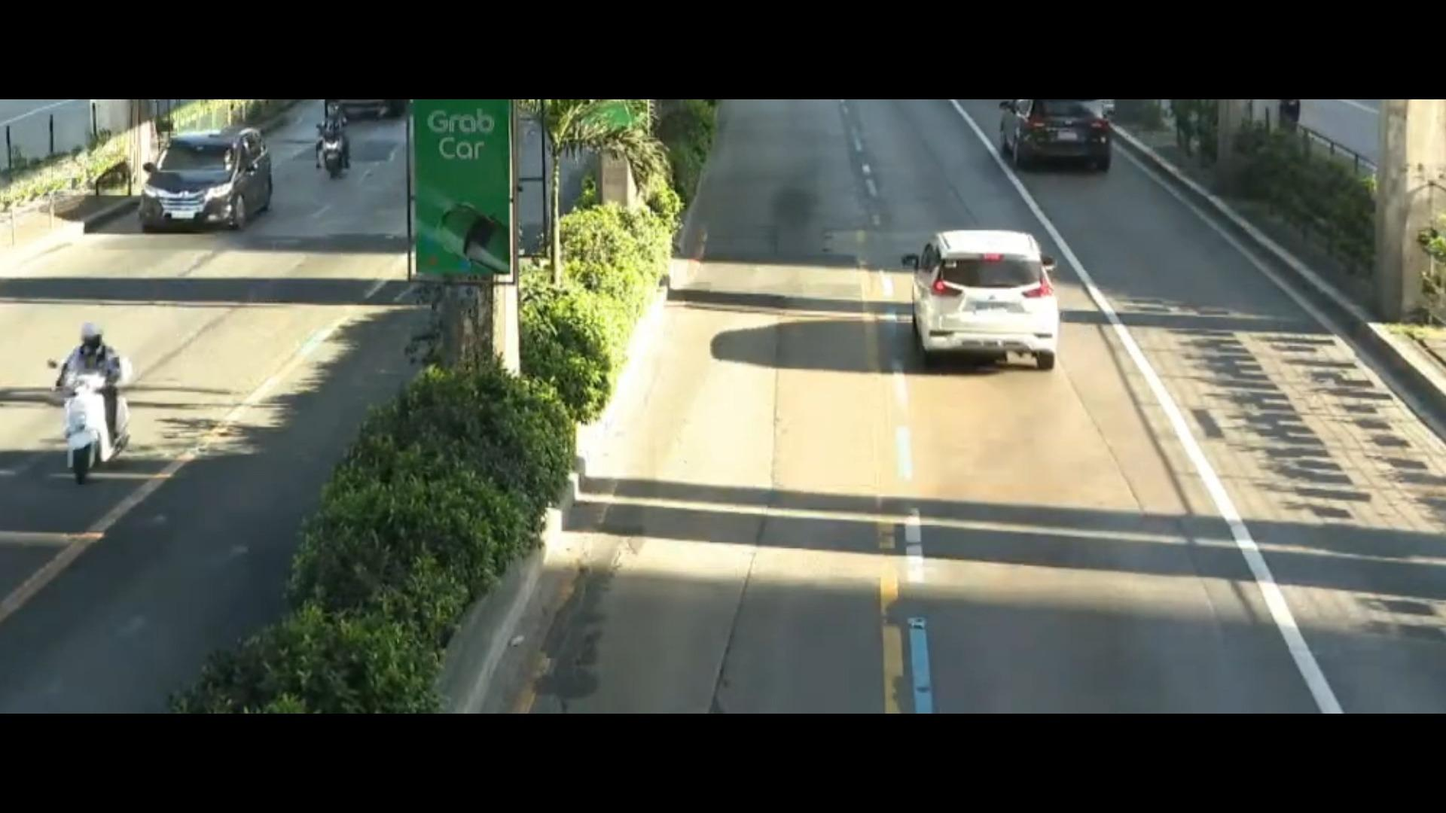Motorcycle: (40, 301, 160, 473), (313, 93, 375, 166)
SUV: (897, 217, 1069, 383), (125, 119, 275, 241), (996, 96, 1120, 175)
